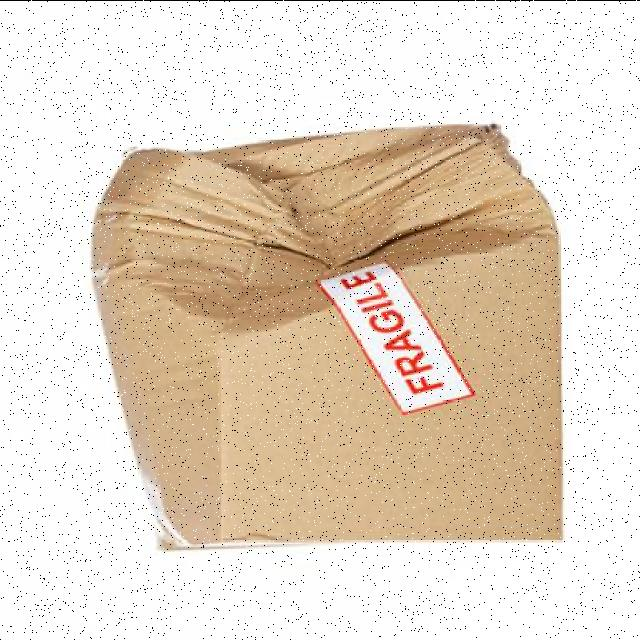defect: (91, 120, 569, 549)
